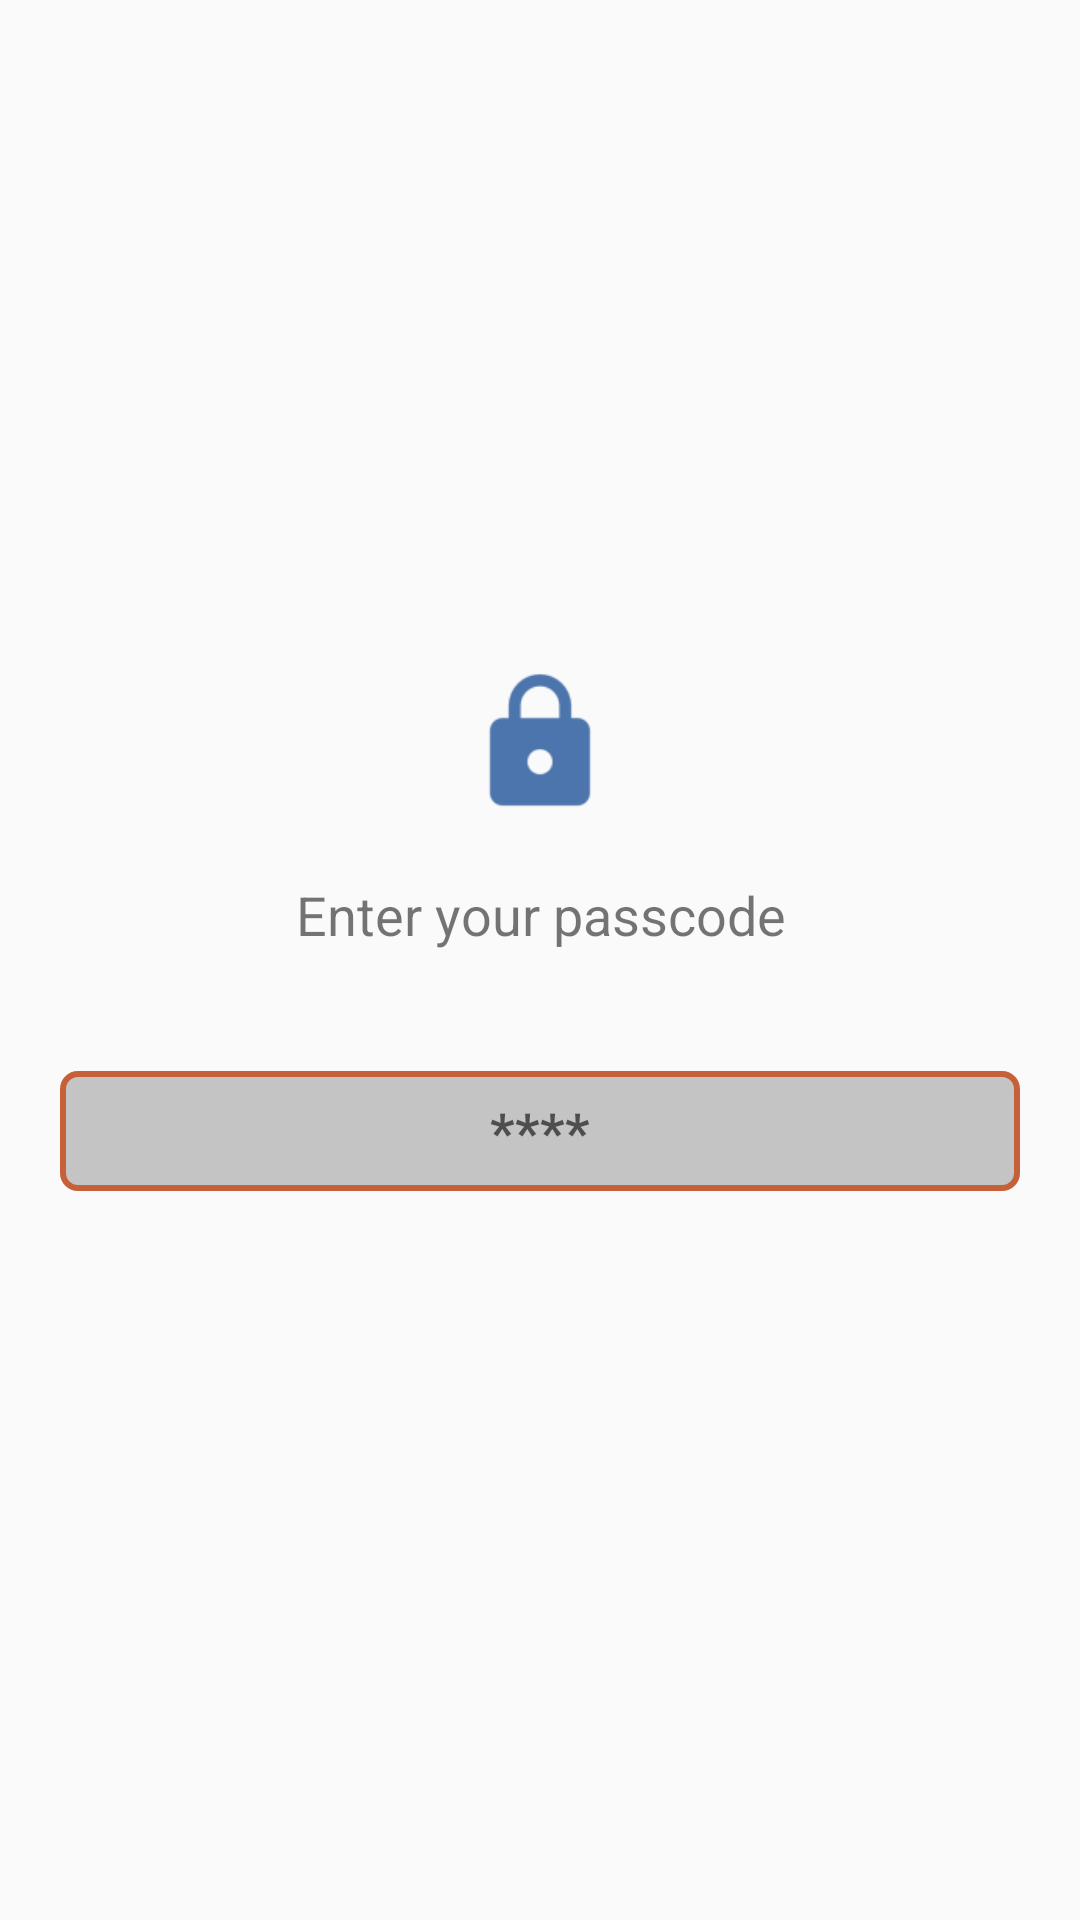

Where to tap for icons on this 1080px x 1920px app screen, as (x,y):
lock: (540,740)
